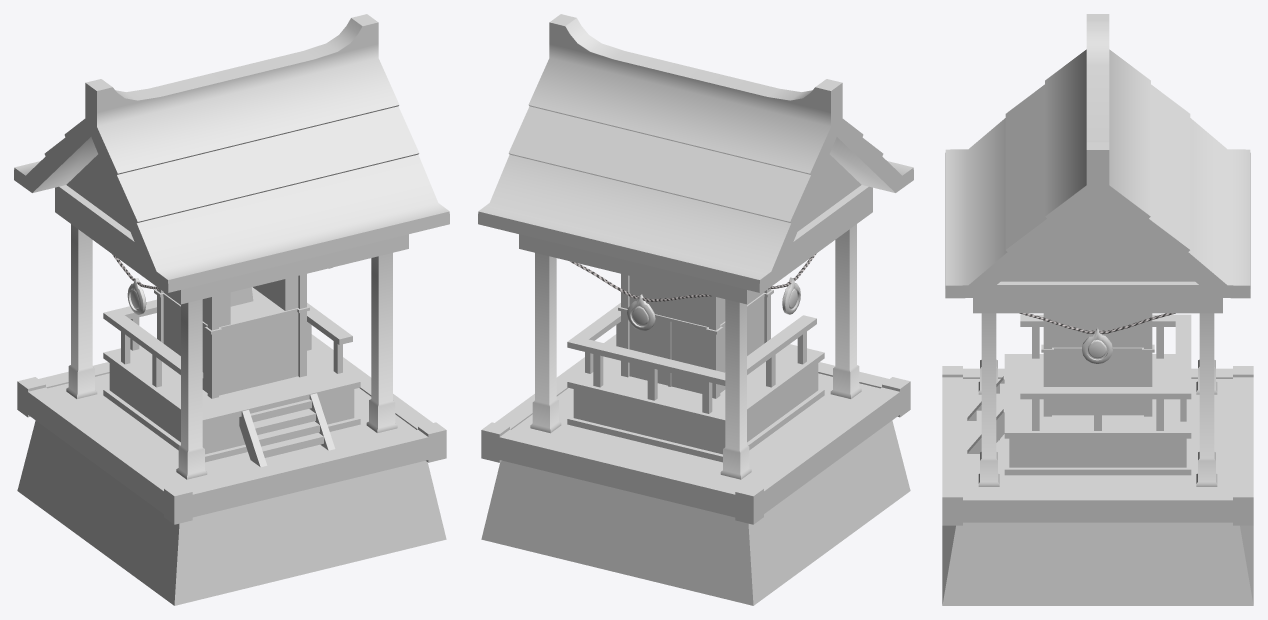
Rendered from Small_Temple.fbx.
3 views of the same model, side by side, from view 1: azimuth 30°, elevation 25°; view 2: azimuth 150°, elevation 25°; view 3: azimuth 270°, elevation 25° (orthographic).
Parts seen in each view (by area): view 1: Plane.050; view 2: Plane.050; view 3: Plane.050.
Part boxes in pixels (left/top/right/bottom): Plane.050: left=14, top=14, right=449, bottom=605; Plane.050: left=478, top=14, right=913, bottom=605; Plane.050: left=942, top=14, right=1253, bottom=605.
Size of the model in its own units: 207 by 325 by 200.
